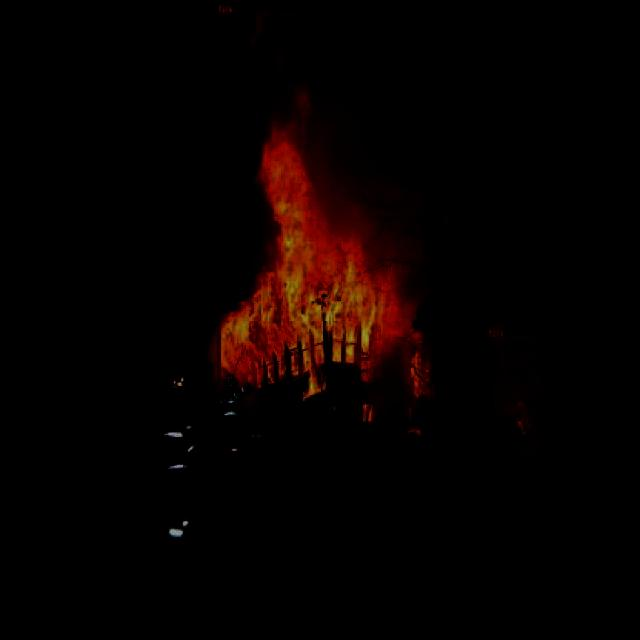fire: (217, 12, 432, 454), (488, 337, 536, 454)
